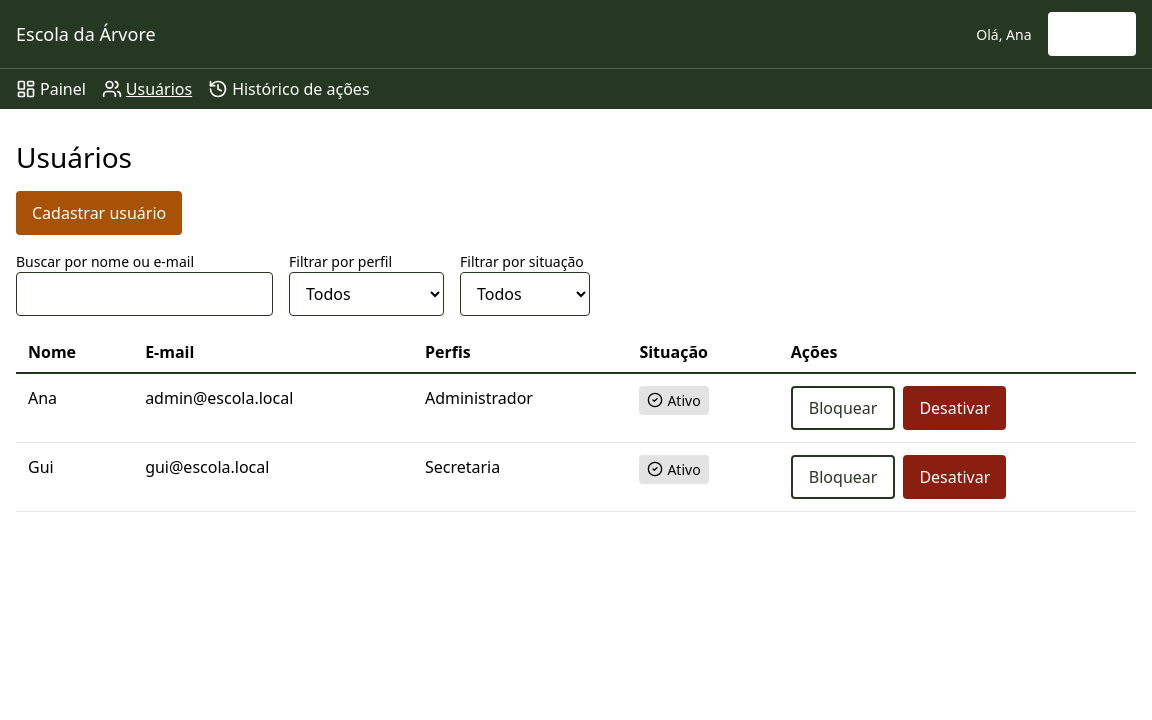
Test: US5 — bloqueio e desbloqueio › bloquear pede confirmação explícita e reflete na lista
The width and height of the screenshot is (1152, 720).
Expected: the text "Gui" is shown, left=16, top=442, right=133, bottom=511
Step 1. Click the button "Bloquear" in the row of "gui@escola.local" → (843, 477), box left=791, top=455, right=895, bottom=499
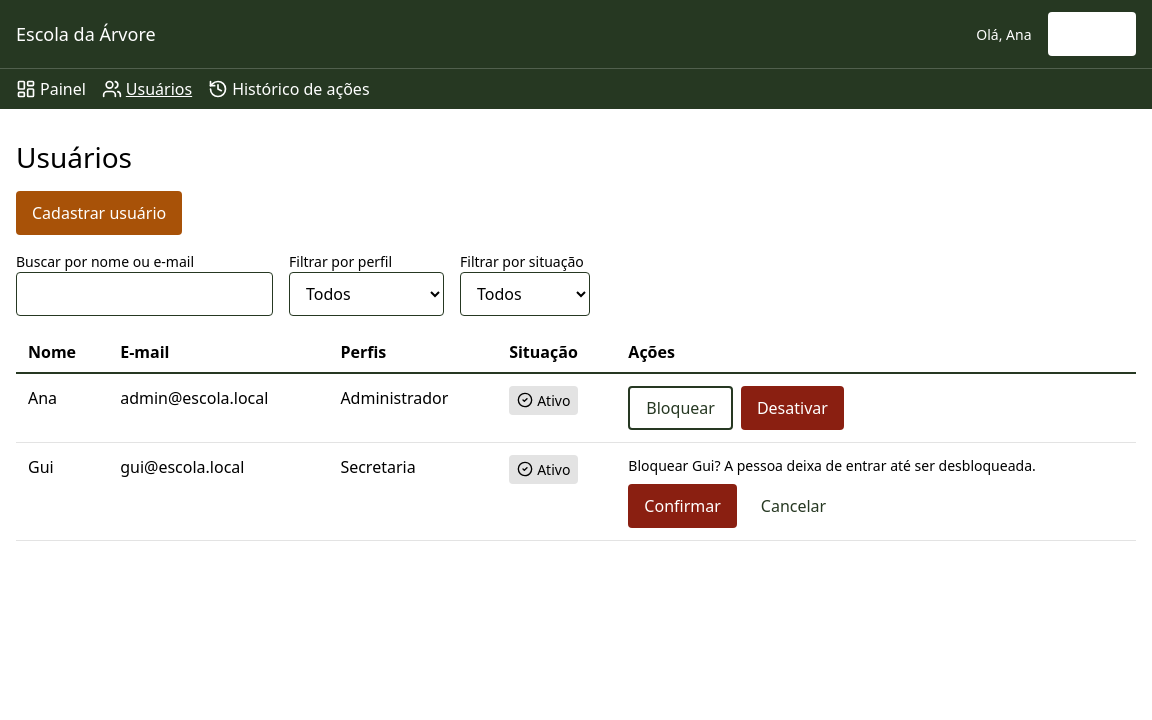
Expected: the text "Ativo" in the row of "gui@escola.local" is shown, left=537, top=460, right=570, bottom=479
Step 2. Click the button "Confirmar" → (683, 506), box left=628, top=484, right=737, bottom=528
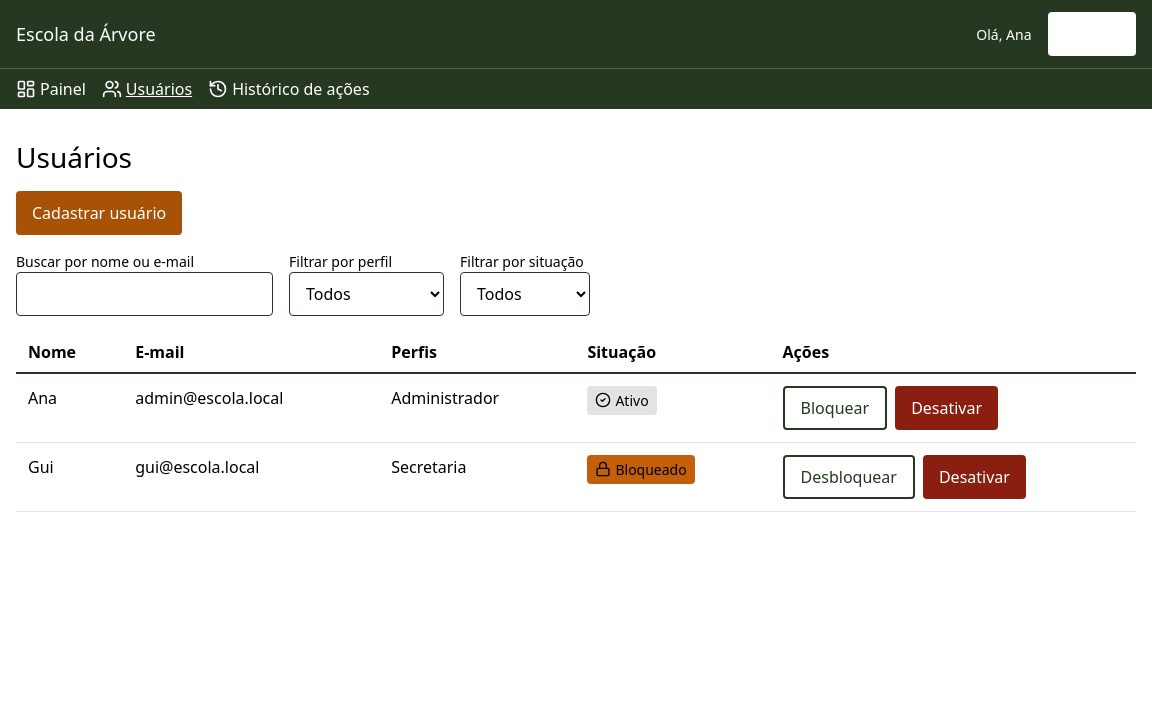
Expected: the text "Bloqueado" is shown, left=587, top=455, right=695, bottom=484
